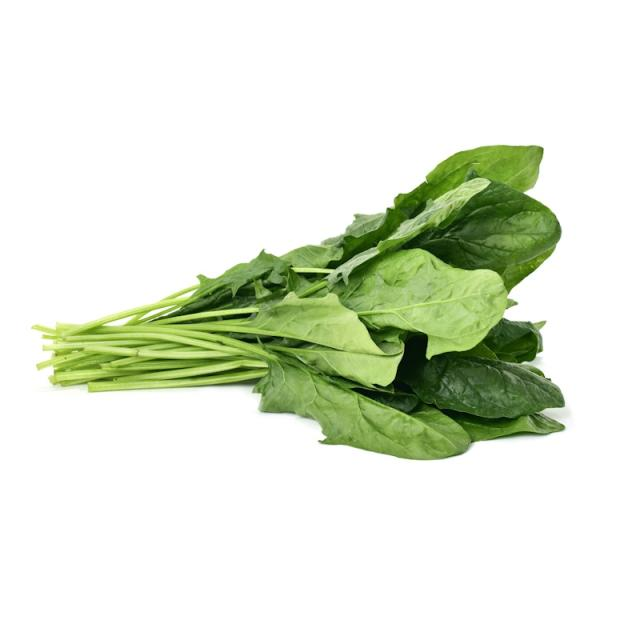spinach: (30, 137, 606, 462)
